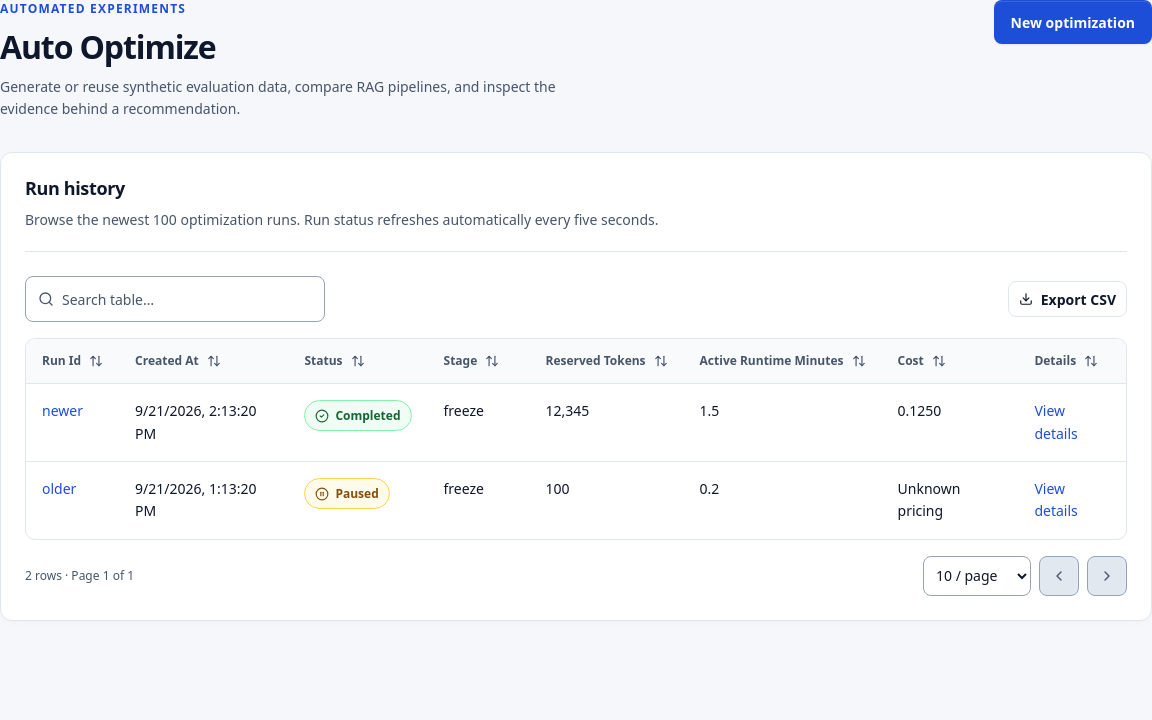
Test case: Auto Optimize › opens history by default with newest-first metadata and detail links
Expected: the text "newest 100" is shown, [25,210,658,229]
Expected: the text "completed" is shown, [304,400,412,431]
Click the link with aria-label "View details for run newer" at x=1050, y=411, box [1034,401,1078,443]
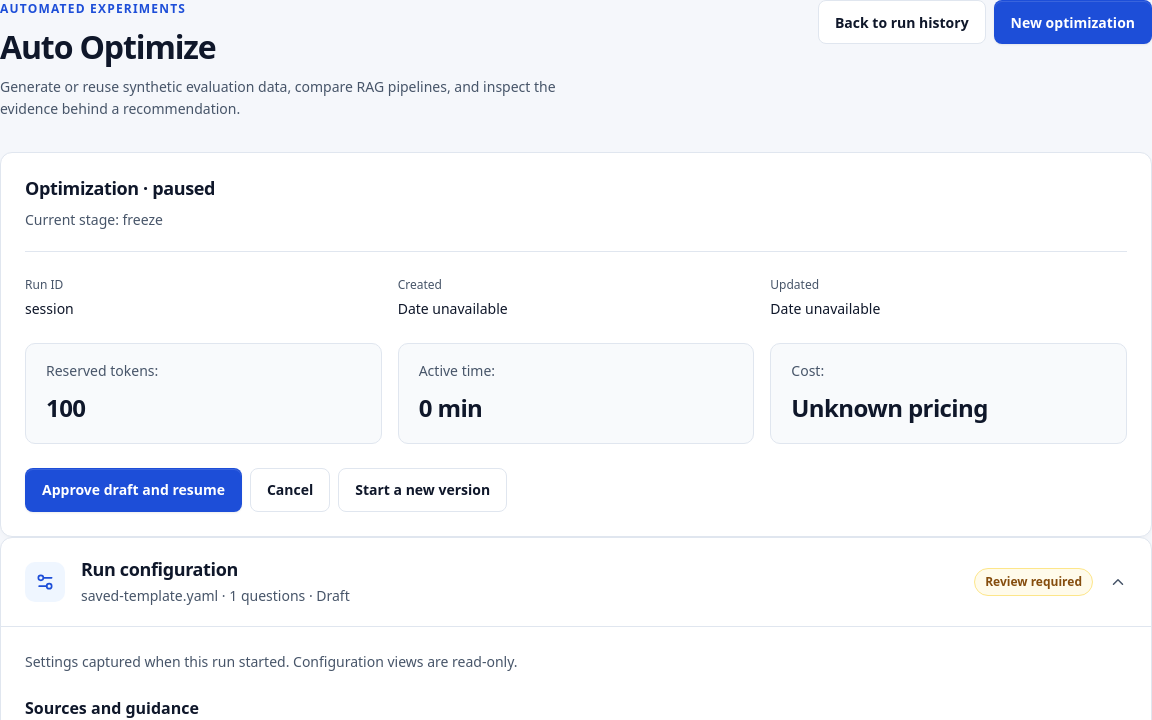
Expected: the heading "Run configuration" is shown, [81,557,238,581]
